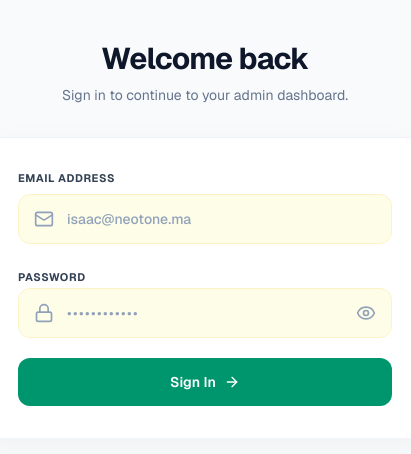
Test case: app/admin/page › rejects non-admin users
Type "test@example.com" into the field with placeholder "isaac@neotone.ma" at [205, 219], box [18,194,392,244]
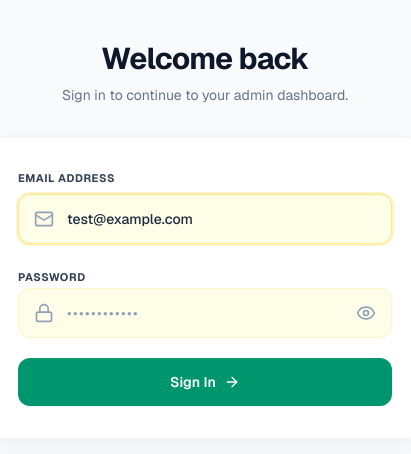
Type "password123" into the password field with placeholder "••••••••••••" at [205, 313], box [18,288,392,338]
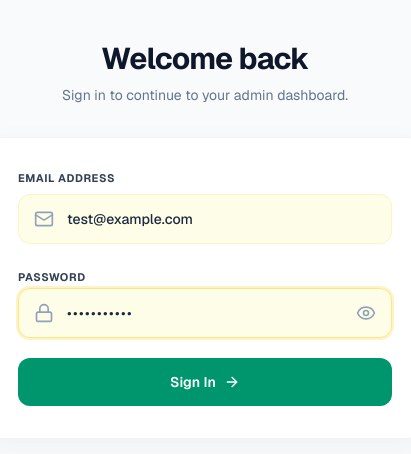
Click the button "Sign In" at [205, 382], box [18,358,392,406]
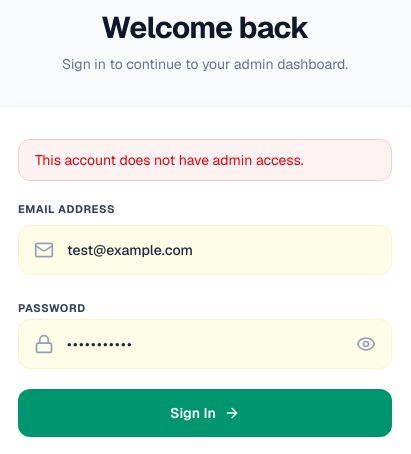
Expected: the text "This account does not have admin access." is shown, [18,139,392,181]
